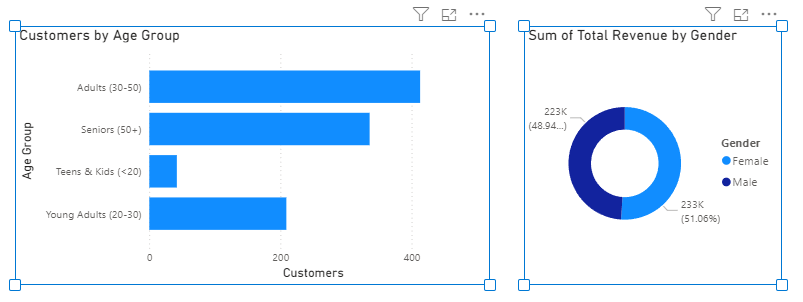

What the dashboard file says about the page in this screenshot:
{"tool":"powerbi","page":{"name":"CHART 2","canvas":[1280,720],"ordinal":2},"visuals":[{"type":"barChart","fields":{"Category":["retail_sales_dataset.Age Group"],"Y":["retail_sales_dataset.Customers"]},"box":[48.4,91,551.8,300.1],"z":0},{"type":"donutChart","fields":{"Category":["retail_sales_dataset.Gender"],"Y":["Sum(retail_sales_dataset.Total Revenue)"]},"box":[640,91,300.1,300.1],"z":1000}]}

Visuals, with their boxes on the page's 1280x720 design canvas (x1, y1, x2, y2). These are canvas units, not pixel positions in the 803x302 screenshot, which may show the page scaled, cropped or inside an application window:
barChart - retail_sales_dataset.Age Group x retail_sales_dataset.Customers: x1=48 y1=91 x2=600 y2=391
donutChart - retail_sales_dataset.Gender x Sum(retail_sales_dataset.Total Revenue): x1=640 y1=91 x2=940 y2=391
